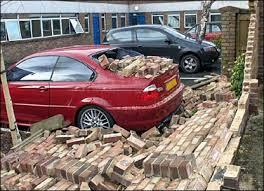Windshield: (92, 47, 150, 74)
